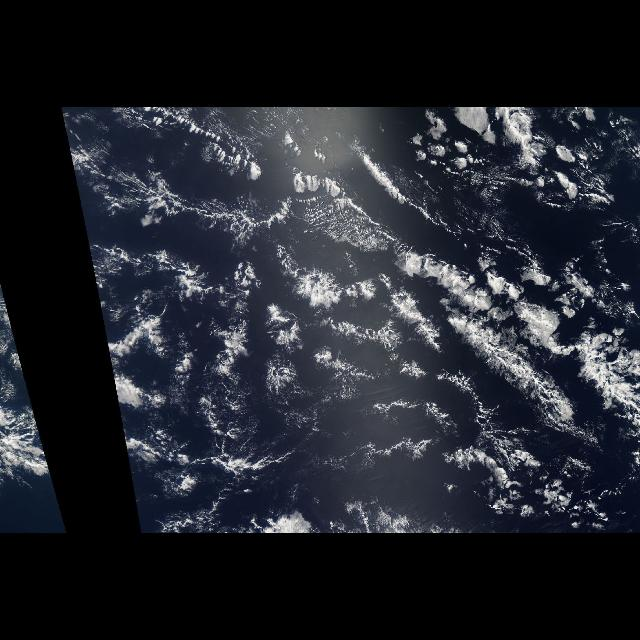Fish: (310, 180, 640, 426)
Flower: (71, 113, 634, 474)
